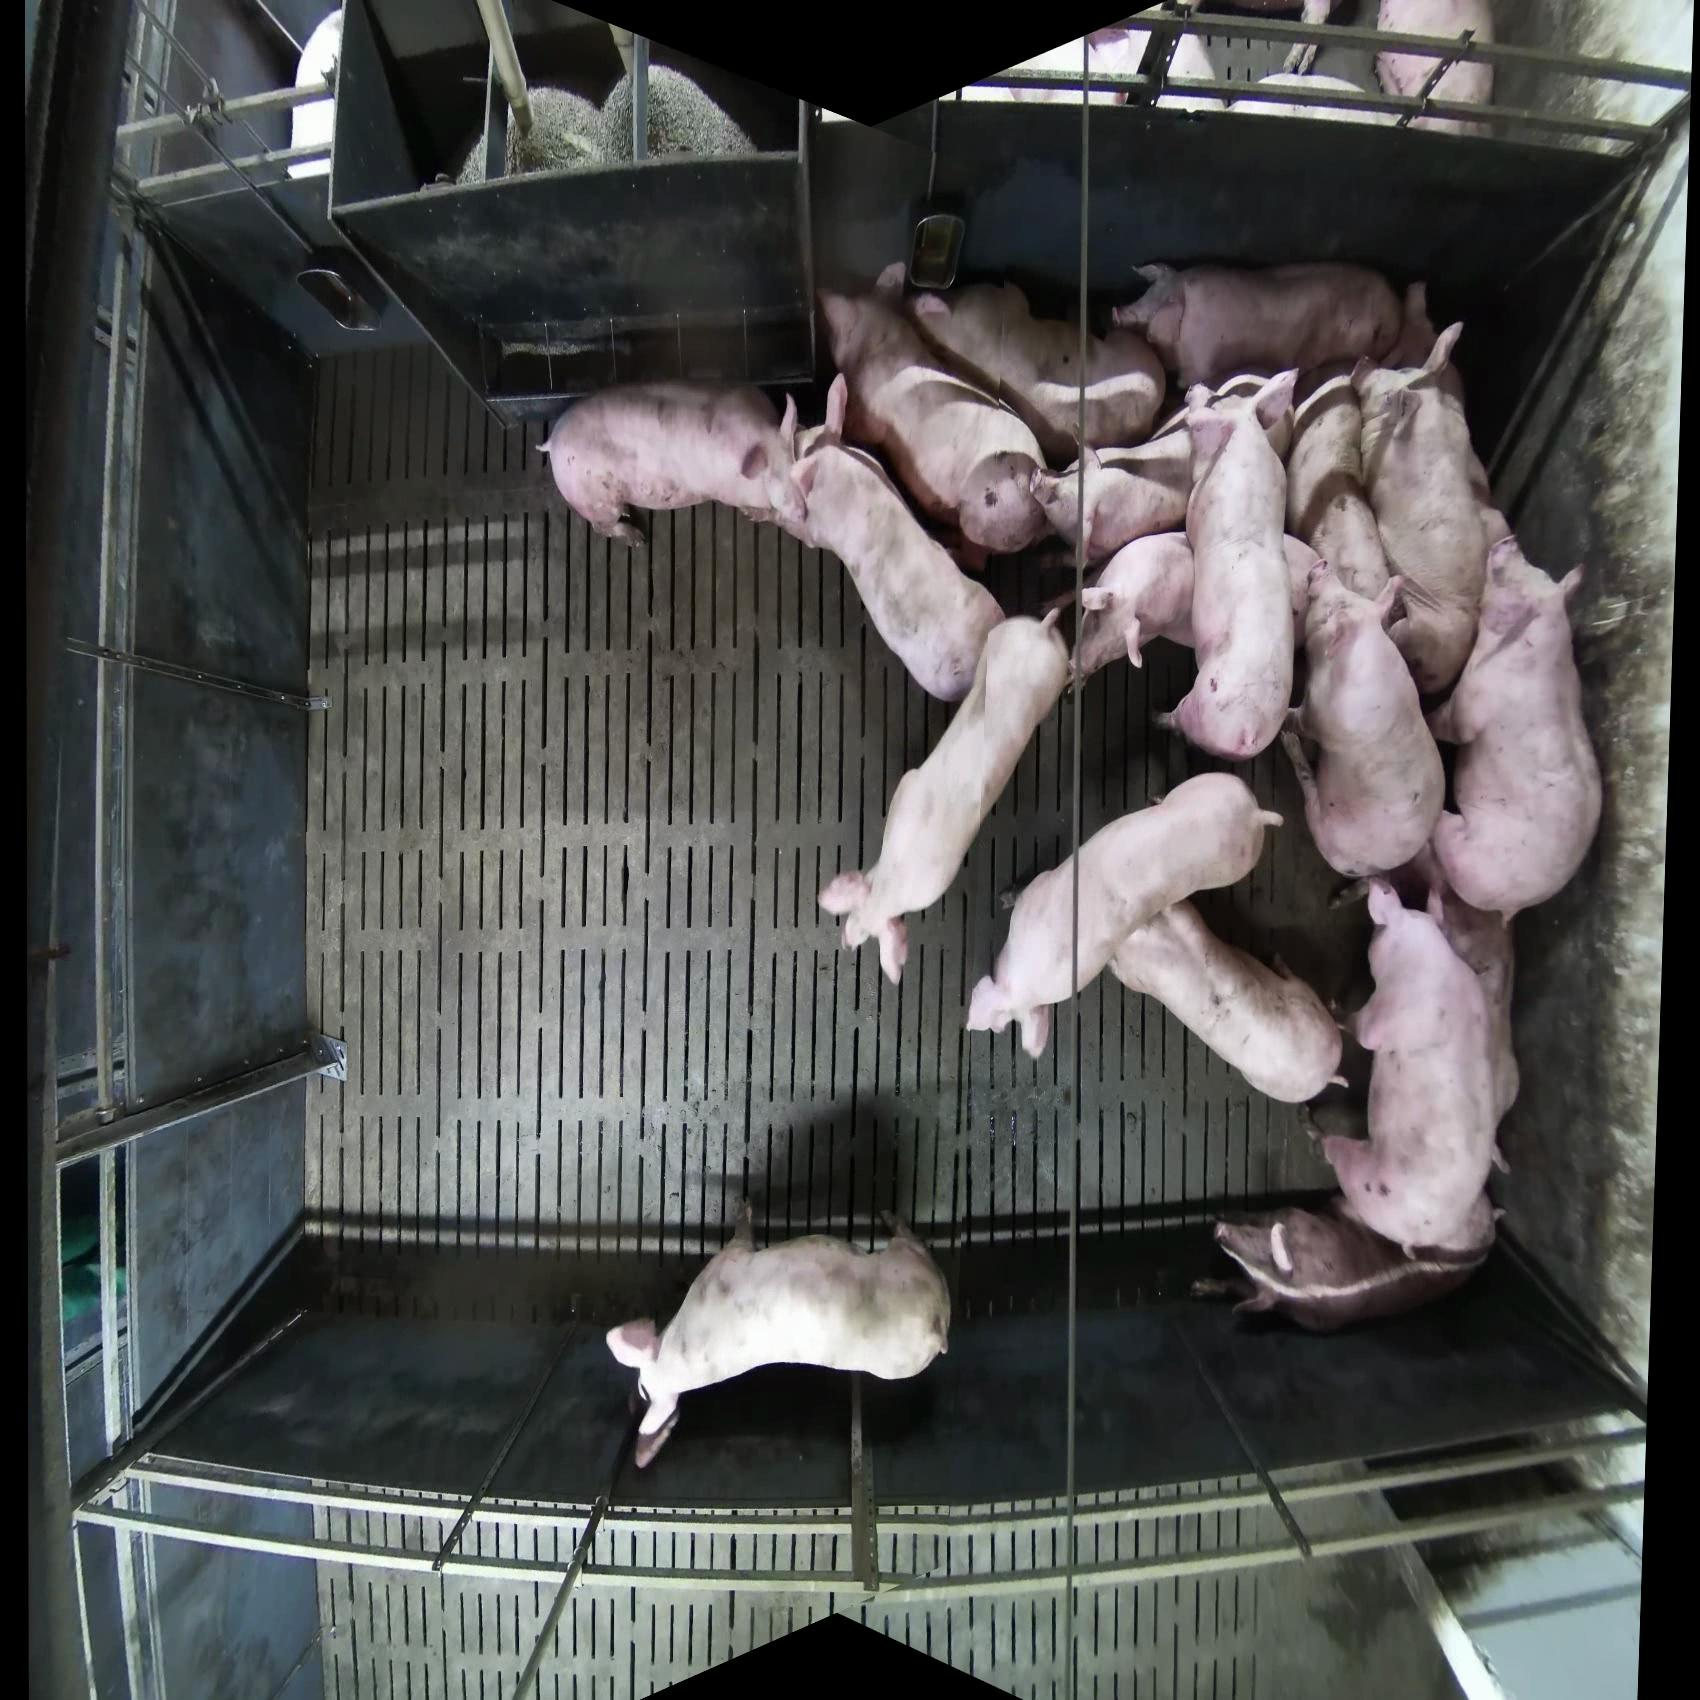pig: (817, 609, 1073, 987), (964, 771, 1284, 1060), (606, 1214, 953, 1473), (1305, 876, 1510, 1261), (777, 377, 1007, 705), (816, 262, 1051, 564), (1428, 536, 1605, 925), (1157, 364, 1301, 761), (1354, 319, 1493, 699), (1104, 895, 1350, 1105), (1291, 560, 1448, 884), (908, 279, 1168, 467), (536, 377, 808, 550), (1066, 526, 1323, 691), (1108, 258, 1409, 394), (1213, 1196, 1496, 1336), (1426, 880, 1523, 1175), (1066, 529, 1194, 690), (1031, 437, 1191, 564), (1375, 2, 1498, 137)
